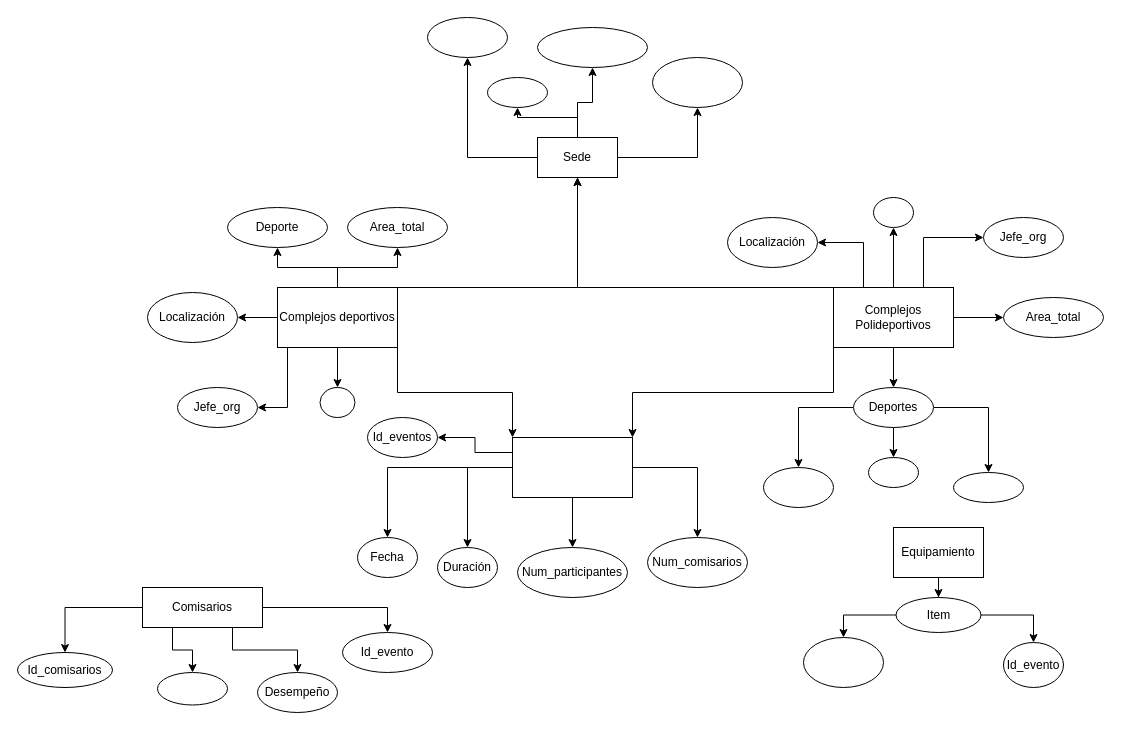
Image size: 1121x730. Some labels were removed from this diagram. The centre of each missing label's shape, as x and y in pixels:
Eventos: point (572, 467)
Id_complejo: point (843, 662)
Id_D: point (337, 402)
Id_loc: point (988, 487)
Id_P: point (893, 212)
Id_sede: point (517, 92)
Id_sport: point (798, 487)
Nombre: point (192, 688)
Num_complejos: point (592, 47)
Presupuesto: point (697, 82)
Ubicación: point (467, 37)
Área: point (893, 472)
